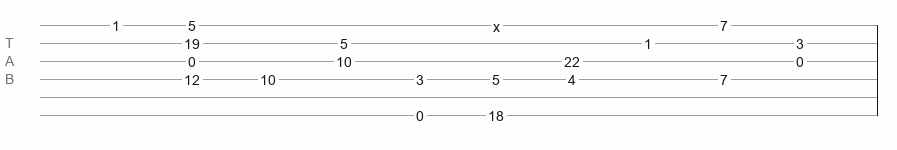0: (188, 54, 196, 64), (416, 108, 424, 118), (796, 54, 804, 64)
1: (112, 18, 120, 28), (644, 36, 652, 46)
10: (260, 72, 276, 82), (336, 54, 352, 64)
12: (184, 72, 200, 82)
18: (488, 108, 504, 118)
19: (184, 36, 200, 46)
22: (564, 54, 580, 64)
3: (416, 72, 424, 82), (796, 36, 804, 46)
4: (568, 72, 576, 82)
5: (188, 18, 196, 28), (340, 36, 348, 46), (492, 72, 500, 82)
7: (720, 72, 728, 82), (720, 18, 728, 28)
x: (493, 19, 500, 27)
